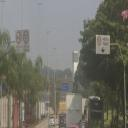speed_limit_50: (23, 30, 30, 53), (97, 34, 101, 46)
speed_limit_60: (15, 30, 23, 53)
